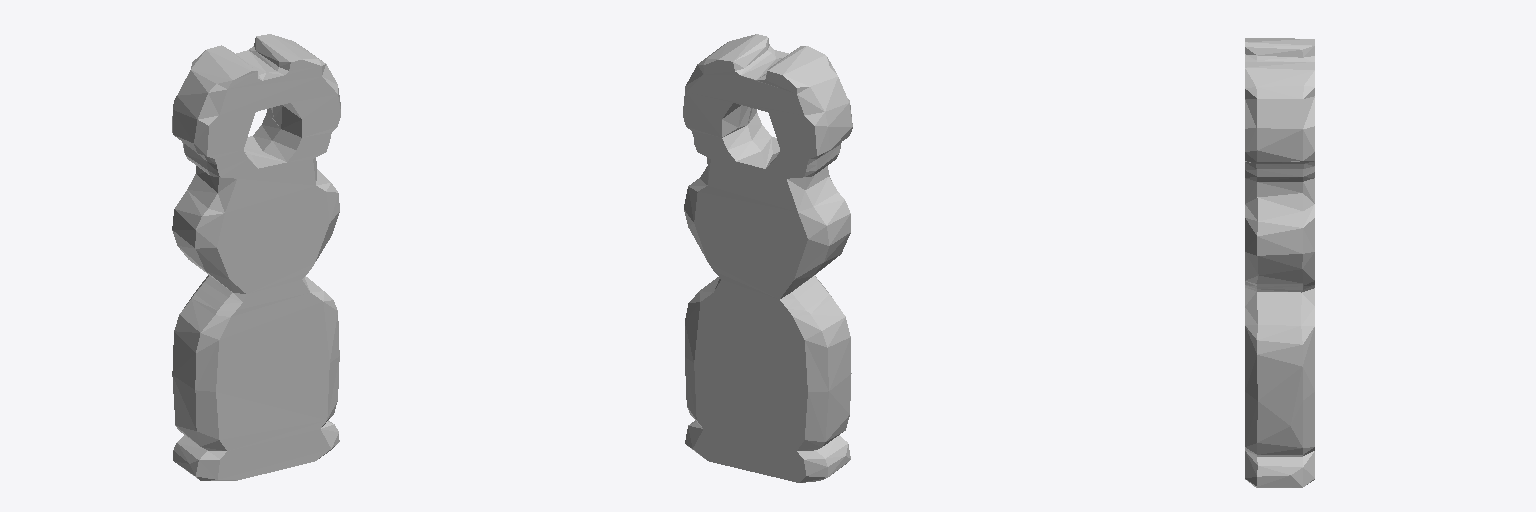
The model's file is ghastyshadow.obj.
The picture shows the model from 3 angles: view 1: azimuth 30°, elevation 25°; view 2: azimuth 150°, elevation 25°; view 3: azimuth 270°, elevation 25°; orthographic projection.
Parts seen in each view (by area): view 1: Curve_CUpath880; view 2: Curve_CUpath880; view 3: Curve_CUpath880.
Part boxes in pixels (left/top/right/bottom): Curve_CUpath880: left=172, top=34, right=340, bottom=480; Curve_CUpath880: left=683, top=34, right=852, bottom=482; Curve_CUpath880: left=1245, top=38, right=1314, bottom=487.
Bounding box in the file's own units: 0.2428 × 0.6399 × 0.1001.